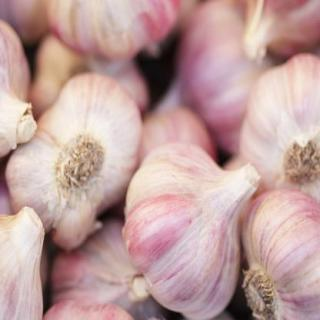Bawang Putih: (7, 73, 146, 251), (124, 141, 245, 320), (244, 188, 320, 320)
